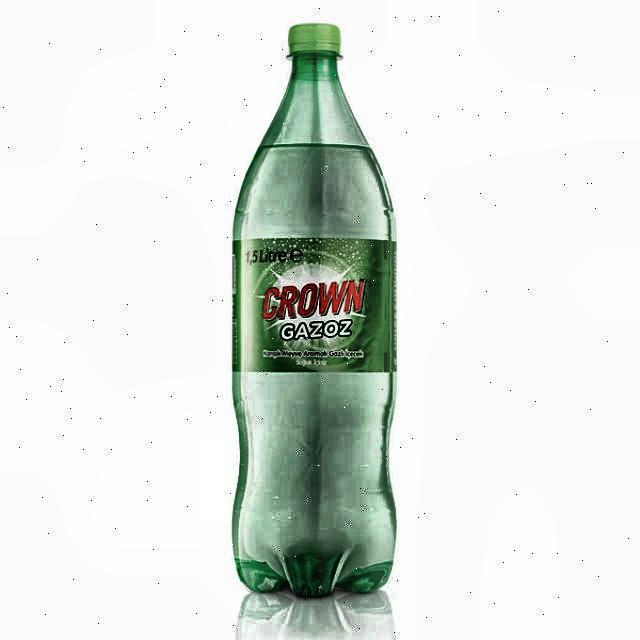plastic: (232, 22, 397, 593)
